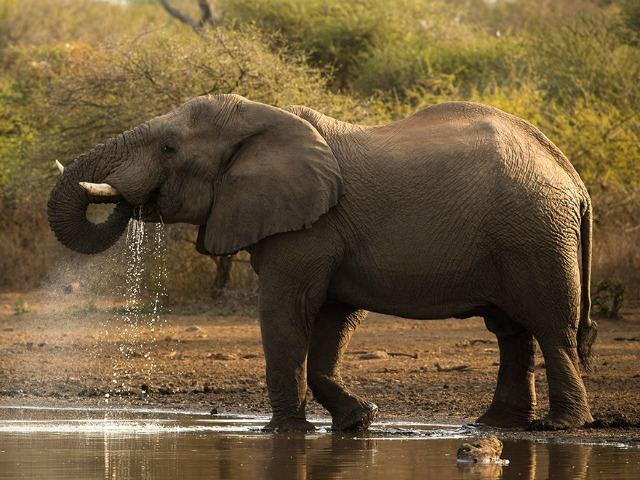elephant: (41, 87, 617, 458)
